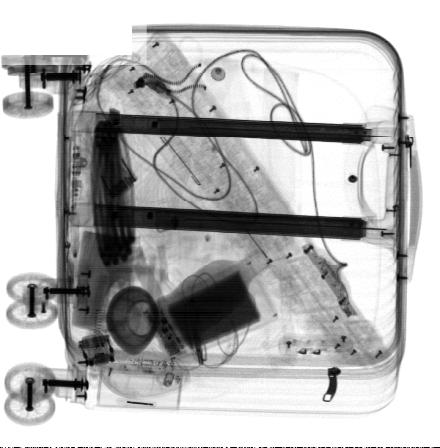Powerbank: (142, 257, 278, 365)
